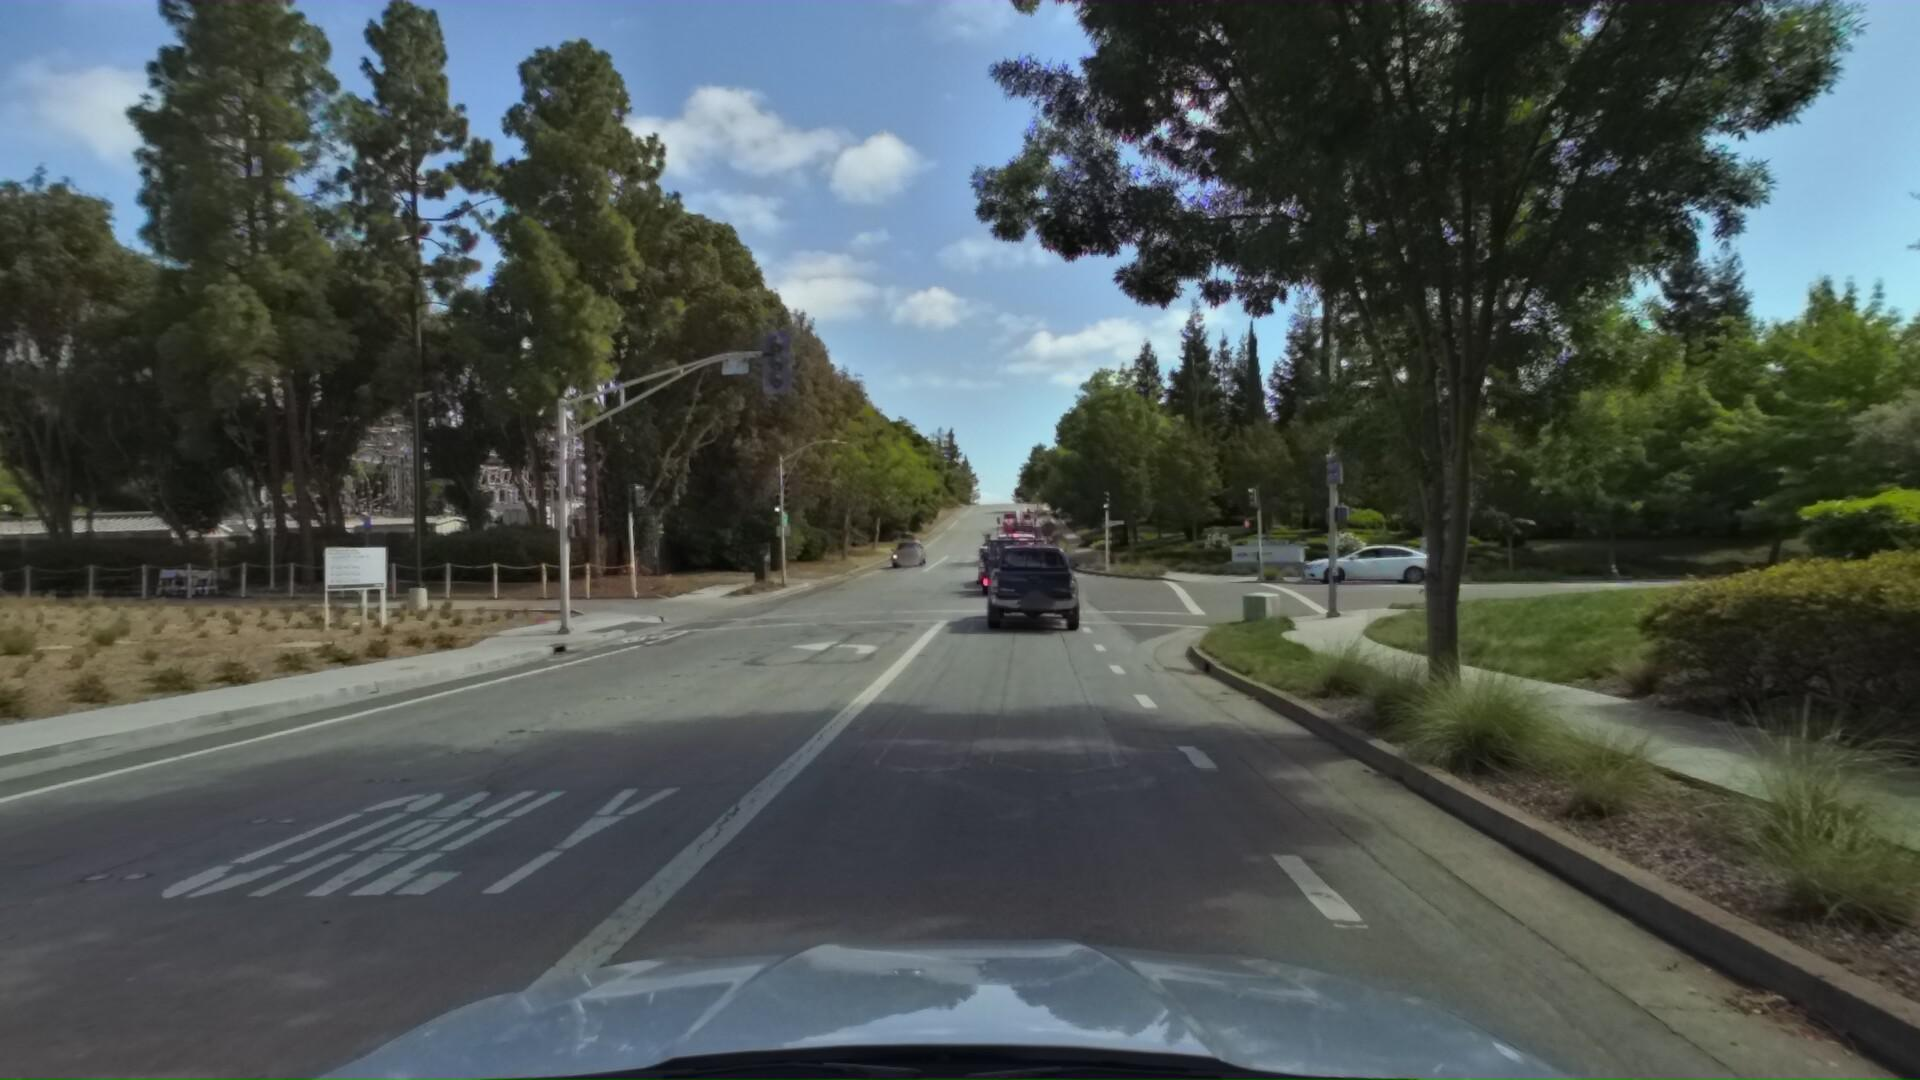car: (980, 530, 1085, 636), (971, 508, 1054, 600), (1295, 537, 1439, 584), (882, 531, 924, 564)
other_vehicle: (996, 502, 1033, 541)
truck: (986, 487, 1043, 563)
